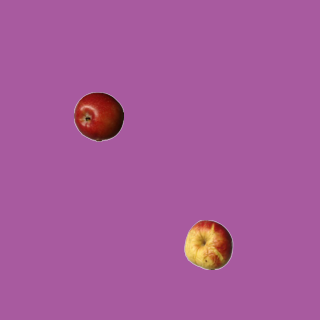Apple Braeburn: (73, 91, 123, 141)
Apple Red Yellow 1: (183, 219, 233, 269)
